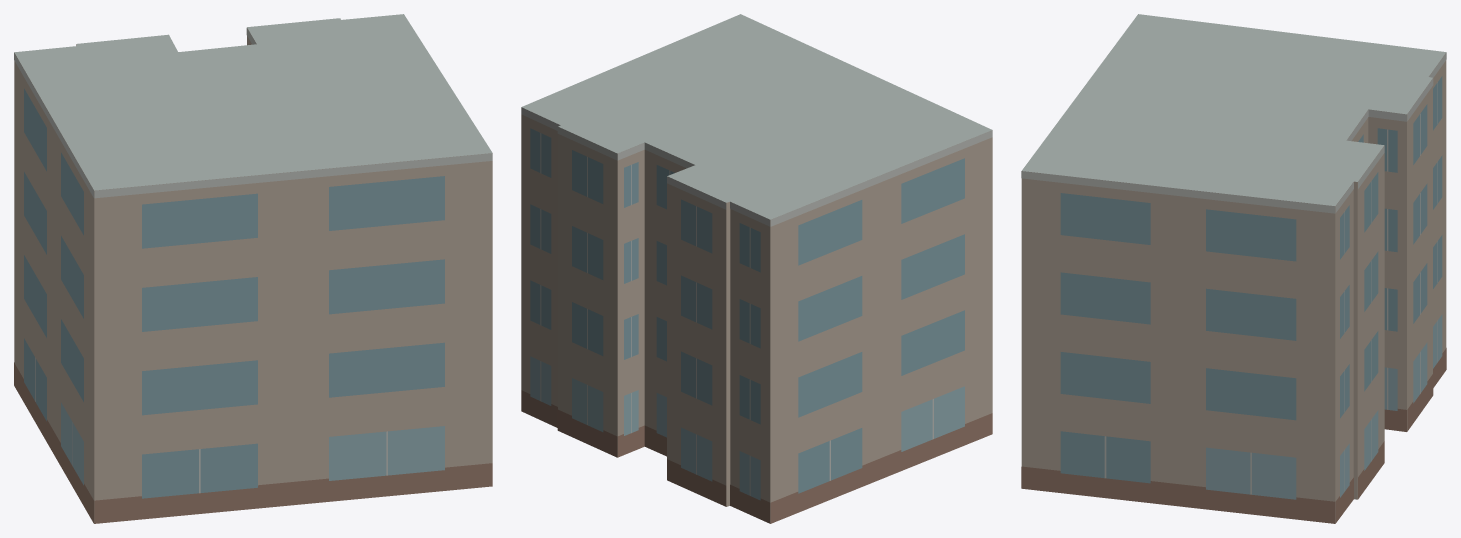
The model's file is survey-upis-32655053.glb.
3 views of the same model, side by side, from view 1: azimuth 30°, elevation 25°; view 2: azimuth 150°, elevation 25°; view 3: azimuth 270°, elevation 25° (orthographic). The views are drawn at different scales.
Visible parts, largest first — view 1: survey-upis-32655053.tmp; view 2: survey-upis-32655053.tmp; view 3: survey-upis-32655053.tmp.
Part boxes in pixels (box(x1,y1,x2,y2)): survey-upis-32655053.tmp: box(14, 14, 492, 523); survey-upis-32655053.tmp: box(521, 14, 992, 523); survey-upis-32655053.tmp: box(1021, 14, 1446, 523).
Bounding box in the file's own units: 13.5 × 10.4 × 12.62.
